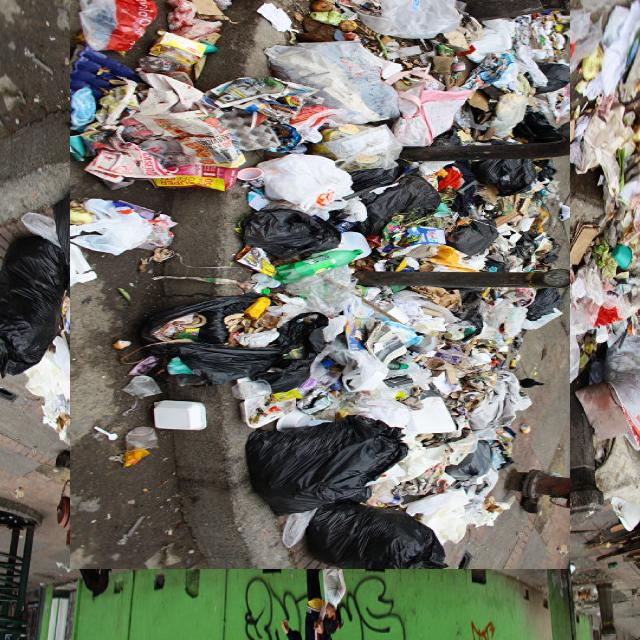garbage: (35, 0, 605, 535)
